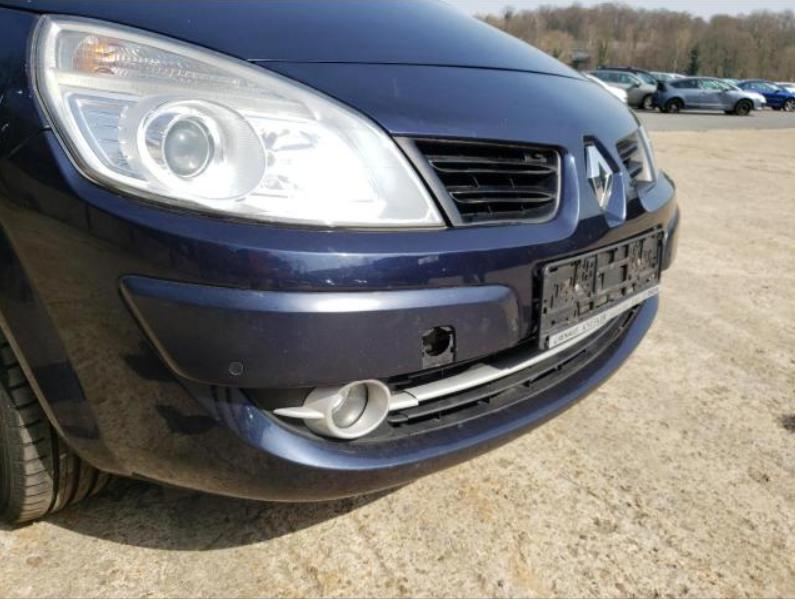Fender: (0, 4, 51, 160)
Front-bumper: (0, 60, 683, 502)
Front-wheel: (0, 327, 114, 528)
Grille: (393, 137, 563, 227), (614, 131, 655, 192)
Headlight: (28, 13, 445, 231)
Hood: (1, 0, 598, 83)
License-plate: (538, 226, 665, 353)
